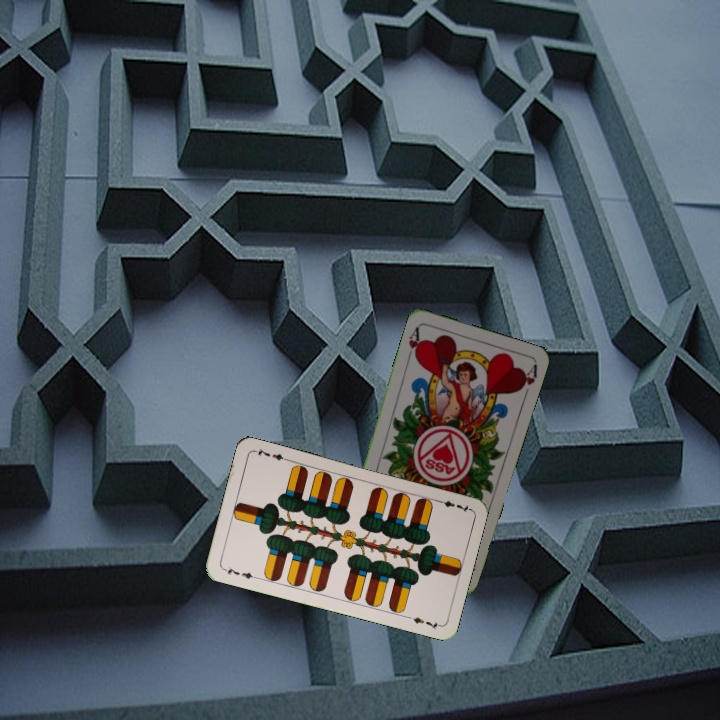E7: (432, 496, 472, 516), (219, 563, 259, 582)
HA: (403, 323, 424, 363)
